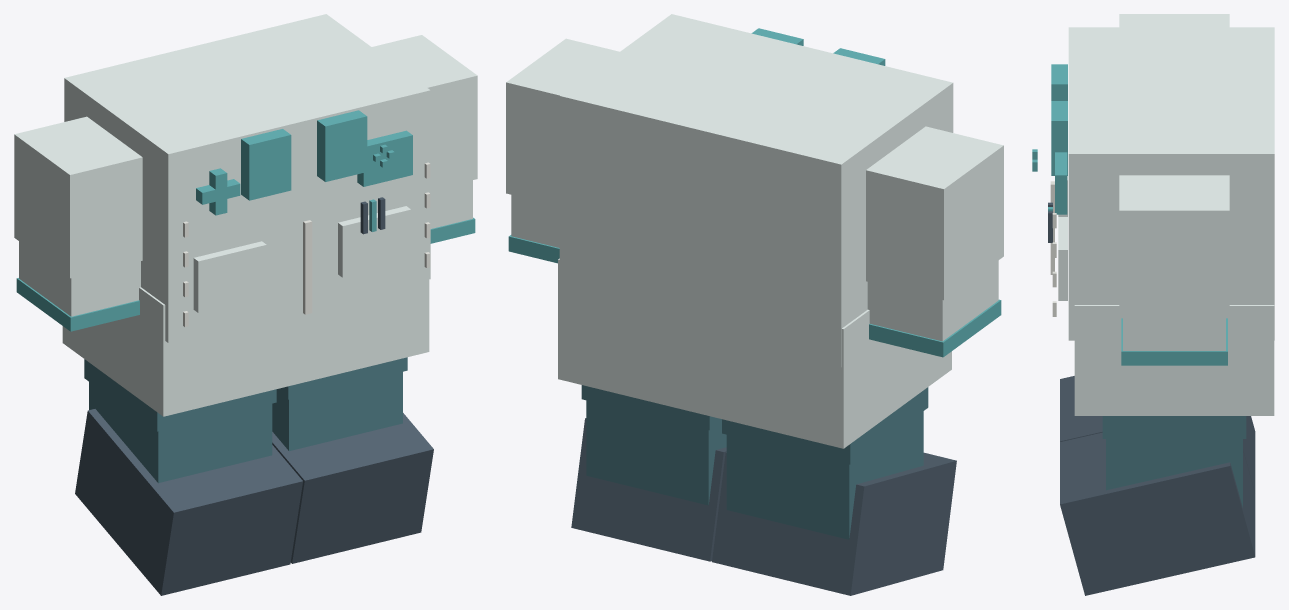
The model's file is pharmacy-teal.glb.
3 views of the same model, side by side, from view 1: azimuth 30°, elevation 25°; view 2: azimuth 150°, elevation 25°; view 3: azimuth 270°, elevation 25° (orthographic). The views are drawn at different scales.
Visible parts, largest first — view 1: jacket, coat-tails, shoe-Right, upper-sleeve-Right, shoe-Left, lower-trouser-Right, upper-sleeve-Left, lower-trouser-Left, lower-sleeve-Right, pocket--1, pocket-1, lapel-1 (+10 smaller); view 2: jacket, coat-tails, upper-sleeve-Right, shoe-Right, lower-trouser-Right, lower-trouser-Left, upper-sleeve-Left, shoe-Left, lower-sleeve-Right, trouser-Right, cuff-Right, lower-sleeve-Left (+2 smaller); view 3: jacket, shoe-Left, coat-tails, upper-sleeve-Left, lower-trouser-Left, lower-sleeve-Left, trouser-Left, shoe-Right, cuff-Left, upper-sleeve-Right, lapel-1, pocket-1 (+2 smaller).
Boxes of the visible parts, bbox=[...] form: jacket: bbox=[64, 14, 430, 342]; coat-tails: bbox=[62, 279, 429, 416]; shoe-Right: bbox=[75, 409, 302, 595]; upper-sleeve-Right: bbox=[14, 116, 142, 278]; shoe-Left: bbox=[272, 413, 433, 563]; lower-trouser-Right: bbox=[89, 382, 272, 482]; upper-sleeve-Left: bbox=[372, 35, 477, 190]; lower-trouser-Left: bbox=[272, 372, 402, 451]; lower-sleeve-Right: bbox=[19, 241, 140, 316]; pocket--1: bbox=[193, 241, 266, 312]; pocket-1: bbox=[338, 206, 411, 277]; lapel-1: bbox=[317, 110, 367, 181]; jacket: bbox=[559, 14, 953, 367]; coat-tails: bbox=[558, 258, 951, 448]; upper-sleeve-Right: bbox=[866, 126, 1003, 300]; shoe-Right: bbox=[712, 452, 956, 595]; lower-trouser-Right: bbox=[726, 411, 923, 539]; lower-trouser-Left: bbox=[586, 400, 726, 505]; upper-sleeve-Left: bbox=[506, 38, 619, 206]; shoe-Left: bbox=[571, 418, 726, 561]; lower-sleeve-Right: bbox=[867, 260, 998, 341]; trouser-Right: bbox=[722, 387, 928, 464]; cuff-Right: bbox=[869, 299, 1001, 357]; lower-sleeve-Left: bbox=[511, 195, 559, 247]; jacket: bbox=[1068, 27, 1274, 340]; shoe-Left: bbox=[1060, 432, 1255, 595]; coat-tails: bbox=[1074, 305, 1274, 415]; upper-sleeve-Left: bbox=[1119, 175, 1229, 312]; lower-trouser-Left: bbox=[1106, 439, 1242, 507]; lower-sleeve-Left: bbox=[1123, 312, 1225, 350]; trouser-Left: bbox=[1102, 416, 1246, 438]; shoe-Right: bbox=[1060, 376, 1255, 493]; cuff-Left: bbox=[1121, 318, 1227, 365]; upper-sleeve-Right: bbox=[1119, 14, 1229, 27]; lapel-1: bbox=[1051, 101, 1067, 175]; pocket-1: bbox=[1058, 217, 1067, 300].
Bounding box in the file's own units: 1.07 × 1.13 × 0.559.
